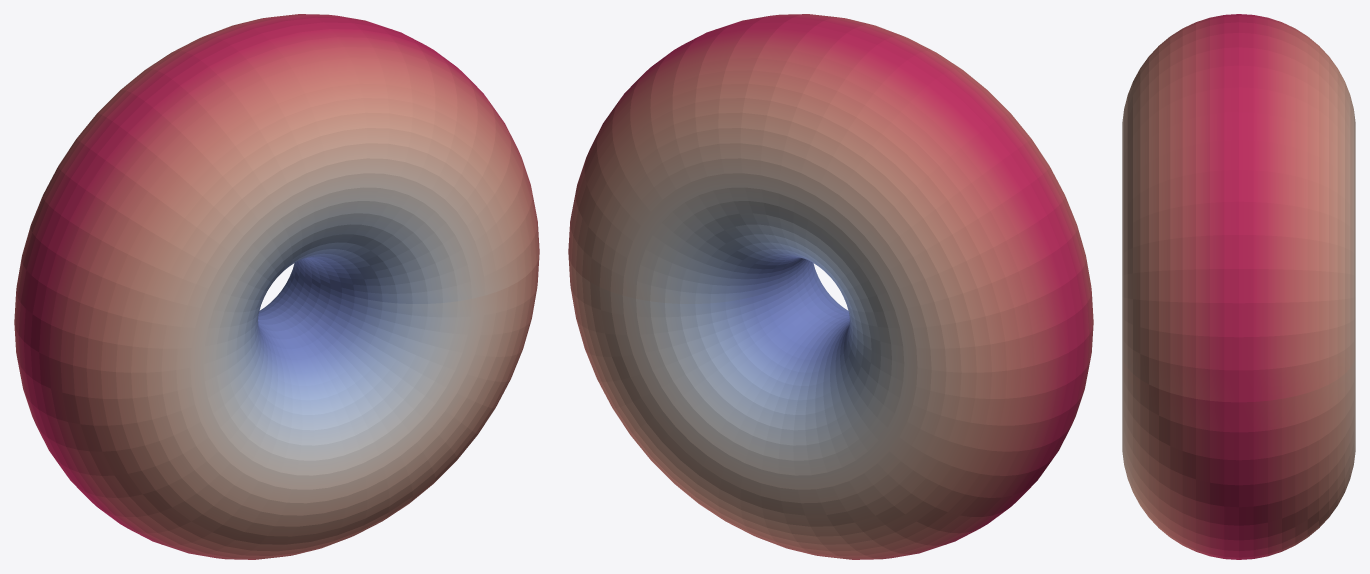
3 views of the same model, side by side, from view 1: azimuth 30°, elevation 25°; view 2: azimuth 150°, elevation 25°; view 3: azimuth 270°, elevation 25° (orthographic). The views are drawn at different scales.
Visible parts, largest first — view 1: world; view 2: world; view 3: world.
Boxes of the visible parts, left/top/right/bottom form: world: left=14, top=14, right=539, bottom=559; world: left=568, top=14, right=1093, bottom=559; world: left=1122, top=14, right=1355, bottom=559.
Bounding box in the file's own units: 23.33 × 23.29 × 9.98.
